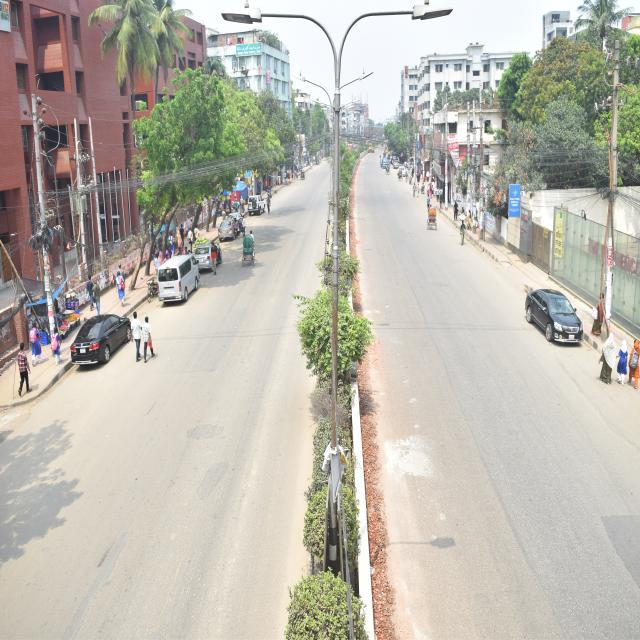car: (524, 282, 586, 348), (68, 314, 136, 369), (194, 238, 222, 271), (214, 217, 243, 242), (242, 193, 268, 212)
microbus: (155, 252, 201, 305)
